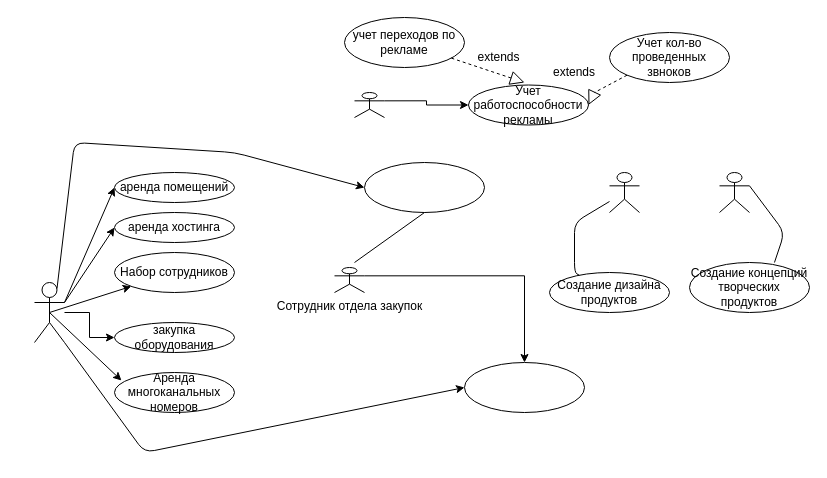
Image size: 827x478. Some labels were removed from this diagram. Each missing label, with the centre of its shape:
"Владелец рекламного бизнеса" goes at point (49, 312).
"Дизайнер" goes at point (624, 192).
"Закупка данных, необходимых для планирования" goes at point (424, 187).
"закупка полиграфичеких продукций" goes at point (524, 387).
"Криэтор" goes at point (734, 192).
"Сотрудник отдела продаж" goes at point (369, 105).
